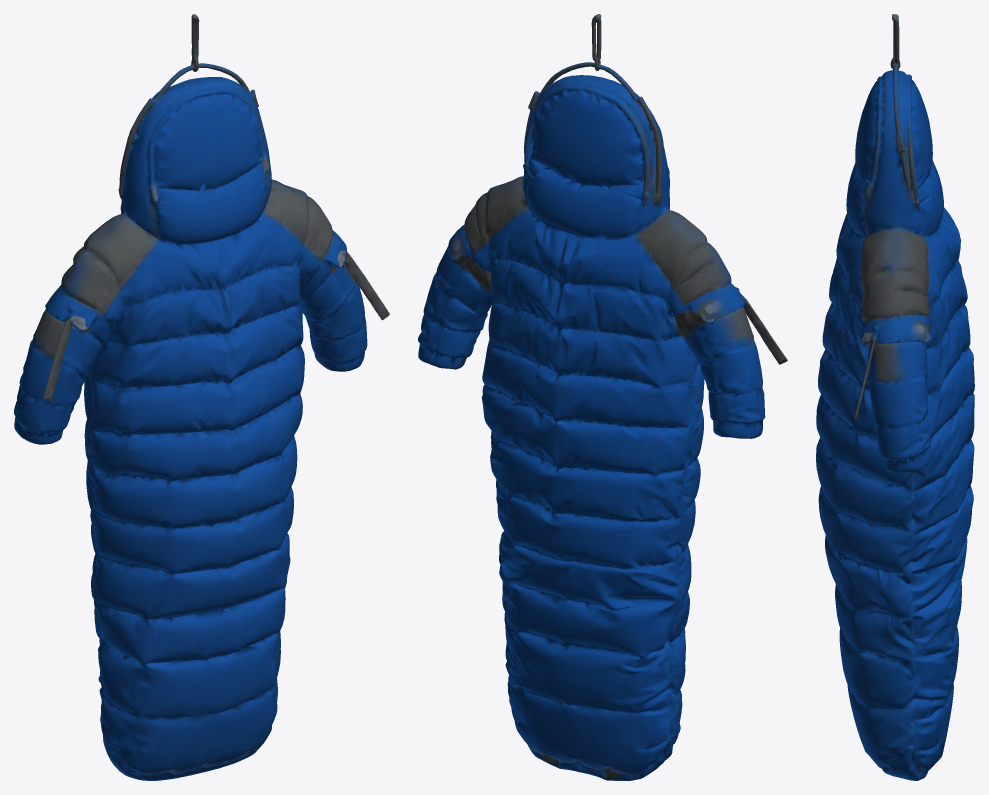
The model's file is sleep_bag.glb.
3 views of the same model, side by side, from view 1: azimuth 30°, elevation 25°; view 2: azimuth 150°, elevation 25°; view 3: azimuth 270°, elevation 25° (orthographic). The views are drawn at different scales.
Visible parts, largest first — view 1: sleep_bag; view 2: sleep_bag; view 3: sleep_bag.
Boxes of the visible parts, left/top/right/bottom form: sleep_bag: left=14, top=14, right=389, bottom=780; sleep_bag: left=418, top=14, right=787, bottom=780; sleep_bag: left=816, top=14, right=974, bottom=780.
Bounding box in the file's own units: 0.951 × 2 × 0.3855.
Materials: 1 (1 with a texture image).
